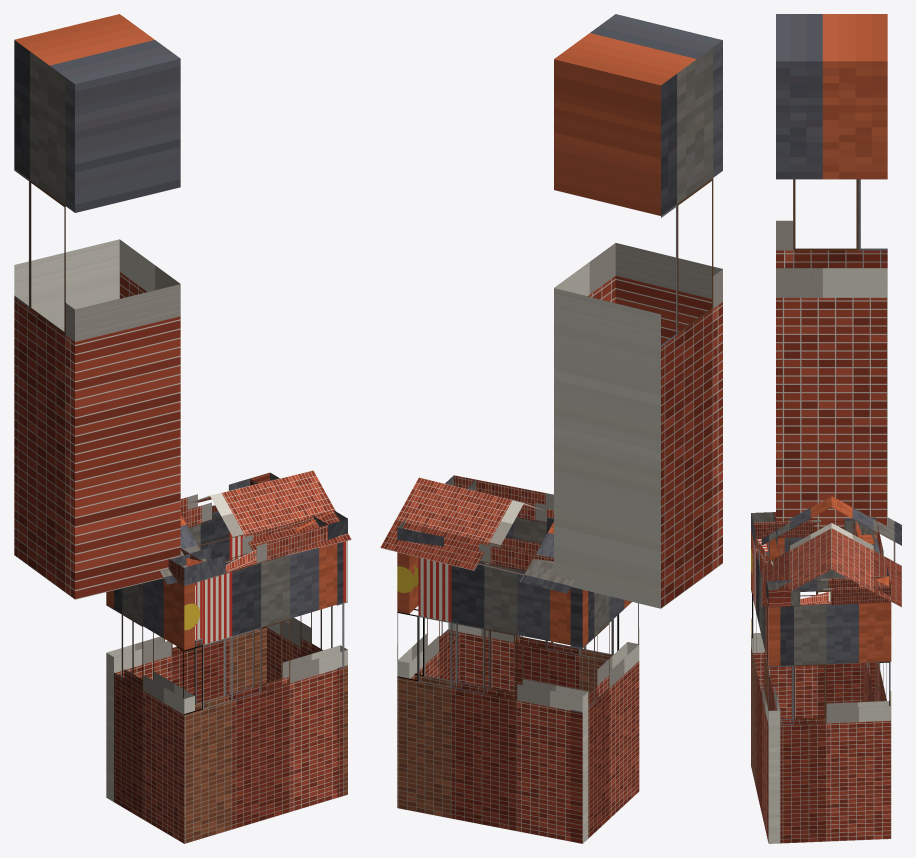
The picture shows the model from 3 angles, left to right: view 1: azimuth 30°, elevation 25°; view 2: azimuth 150°, elevation 25°; view 3: azimuth 270°, elevation 25°; orthographic projection. The views are drawn at different scales.
Parts seen in each view (by area): view 1: 238625161__chimney_0_xb, 238625161__wall_1_xb, 238625161__wall_0_xb, 238625161__wall_3_xb, 238625161_roof_-1_xb, 238625161__wall_2_xb, 238625161__cornice_1, 238625161__cornice_3; view 2: 238625161__chimney_0_xb, 238625161__wall_3_xb, 238625161__wall_0_xb, 238625161_roof_1_xb, 238625161__wall_1_xb, 238625161__wall_2_xb, 238625161__cornice_3, 238625161__cornice_1; view 3: 238625161__chimney_0_xb, 238625161__wall_2_xb, 238625161__wall_1_xb, 238625161__wall_0_xb, 238625161_roof_1_xb, 238625161_roof_-1_xb, 238625161__cornice_2, 238625161__cornice_1, 238625161__cornice_0, 238625161__wall_3_xb, 238625161__cornice_3.
Part boxes in pixels (x1=…): 238625161__chimney_0_xb: x1=14, y1=14, x2=180, y2=599; 238625161__wall_1_xb: x1=176, y1=543, x2=347, y2=843; 238625161__wall_0_xb: x1=106, y1=578, x2=194, y2=843; 238625161__wall_3_xb: x1=106, y1=511, x2=266, y2=801; 238625161_roof_-1_xb: x1=160, y1=470, x2=351, y2=584; 238625161__wall_2_xb: x1=267, y1=541, x2=347, y2=797; 238625161__cornice_1: x1=170, y1=510, x2=333, y2=585; 238625161__cornice_3: x1=180, y1=472, x2=279, y2=527; 238625161__chimney_0_xb: x1=554, y1=14, x2=722, y2=608; 238625161__wall_3_xb: x1=397, y1=557, x2=588, y2=843; 238625161__wall_0_xb: x1=570, y1=587, x2=639, y2=843; 238625161_roof_1_xb: x1=380, y1=477, x2=574, y2=593; 238625161__wall_1_xb: x1=448, y1=517, x2=639, y2=692; 238625161__wall_2_xb: x1=397, y1=552, x2=460, y2=681; 238625161__cornice_3: x1=397, y1=519, x2=553, y2=571; 238625161__cornice_1: x1=453, y1=475, x2=553, y2=523; 238625161__chimney_0_xb: x1=776, y1=14, x2=887, y2=532; 238625161__wall_2_xb: x1=767, y1=602, x2=891, y2=843; 238625161__wall_1_xb: x1=751, y1=539, x2=780, y2=843; 238625161__wall_0_xb: x1=751, y1=530, x2=874, y2=719; 238625161_roof_1_xb: x1=831, y1=496, x2=901, y2=607; 238625161_roof_-1_xb: x1=761, y1=496, x2=831, y2=606; 238625161__cornice_2: x1=766, y1=576, x2=891, y2=606; 238625161__cornice_1: x1=751, y1=512, x2=790, y2=607; 238625161__cornice_0: x1=753, y1=512, x2=875, y2=538; 238625161__wall_3_xb: x1=863, y1=534, x2=891, y2=705; 238625161__cornice_3: x1=853, y1=518, x2=888, y2=576.
Bounding box in the file's own units: 0.3822 × 1.05 × 0.2022.
Materials: 1 (1 with a texture image).
